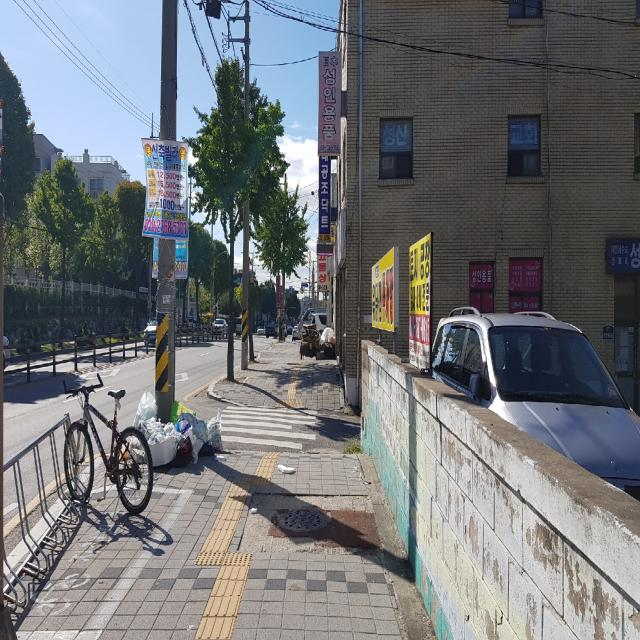횡단보도: (221, 405, 318, 450)
